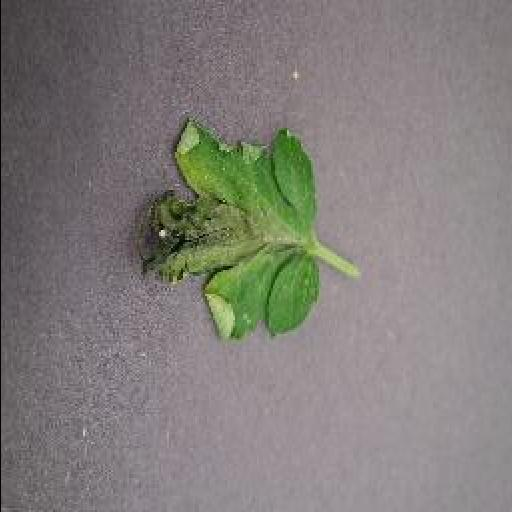disease_tomato: (130, 123, 320, 349)
